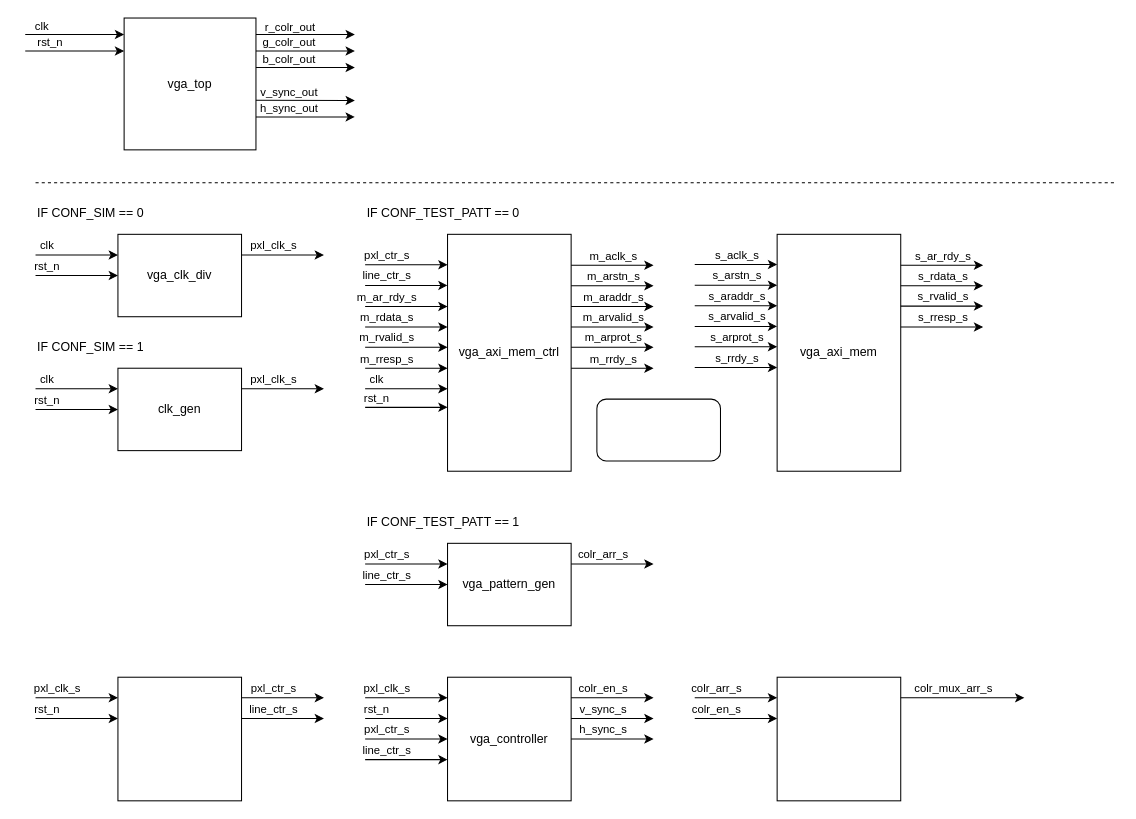
Some shapes in this 1136 by 819 pixel diagram are drawn without their labels. The shapes that lost their labels are listed below. From the top down, each one's centre as x and y in pixels, then its label:
At pixel 658 429: "FIFO?".
At pixel 179 738: "vga_pxl_counter".
At pixel 838 738: "vga_colr_mux".
